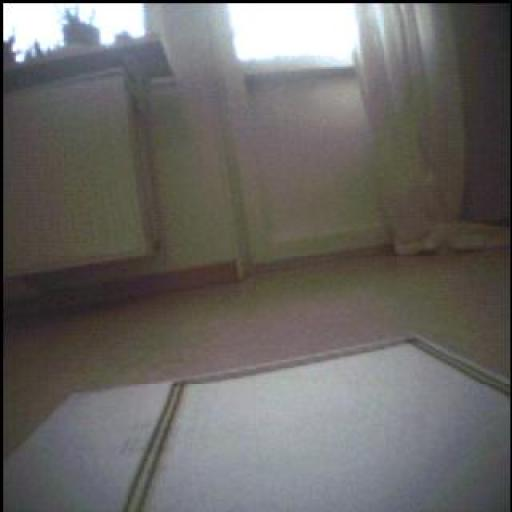Pad: (6, 337, 511, 512)
